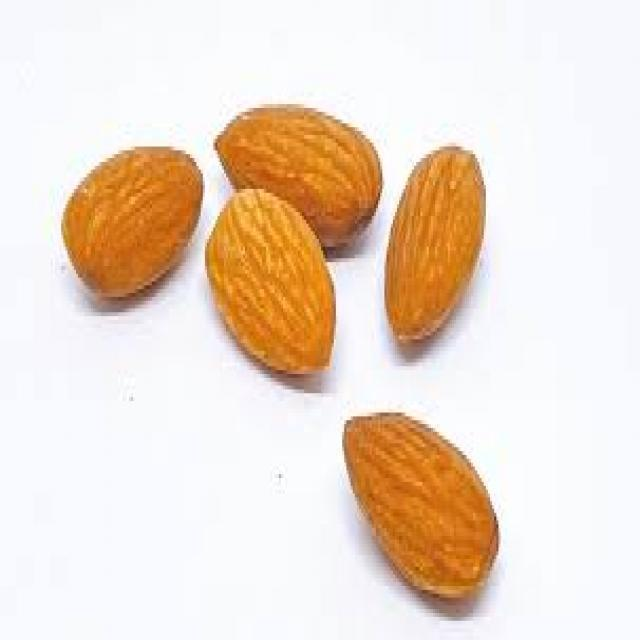almond: (345, 413, 505, 590), (202, 185, 337, 375), (217, 104, 383, 249), (57, 142, 207, 295), (385, 145, 487, 347)
